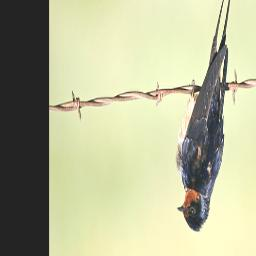Swallow: (176, 0, 235, 235)
